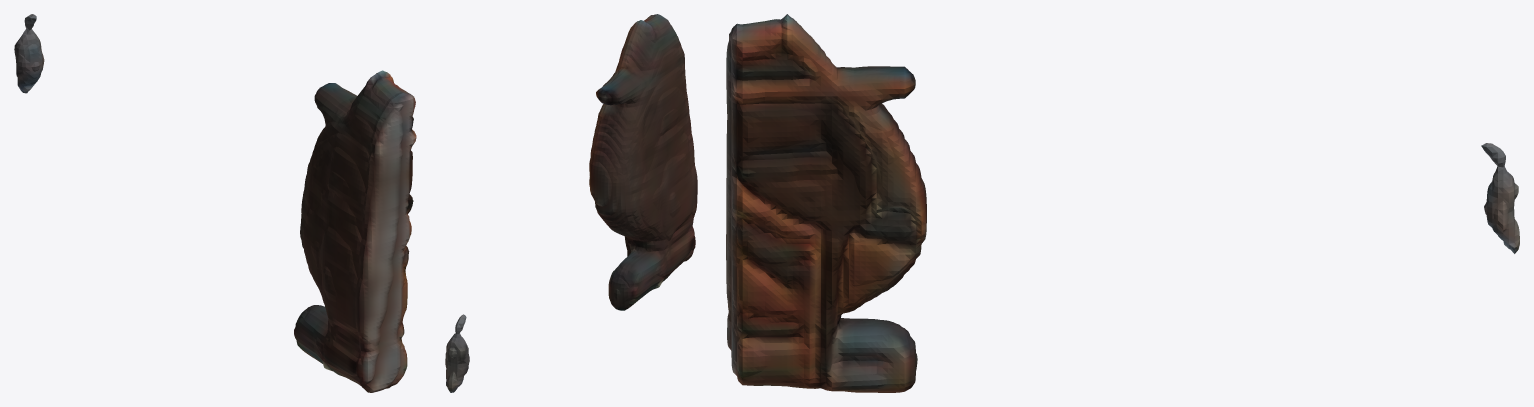
3 views of the same model, side by side, from view 1: azimuth 30°, elevation 25°; view 2: azimuth 150°, elevation 25°; view 3: azimuth 270°, elevation 25° (orthographic). The views are drawn at different scales.
Size of the model in its own units: 0.1629 by 0.5213 by 0.9681.
